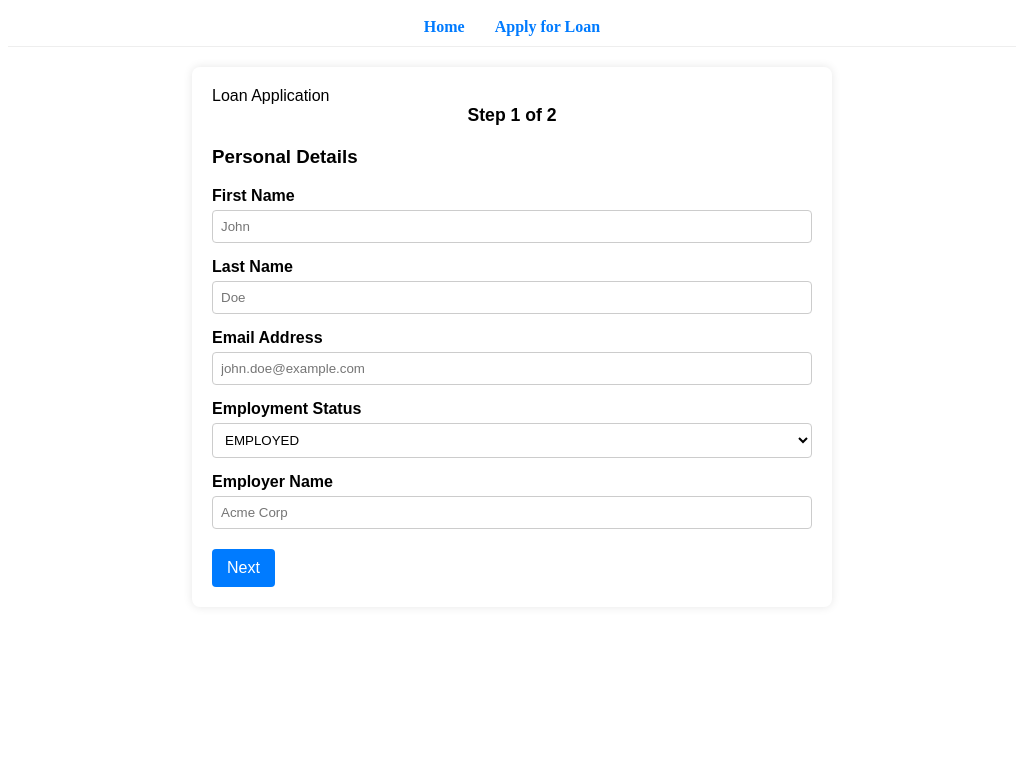
Scenario: Loan Application Form E2E Tests › Step 1: Personal Details › should show required field errors on empty submission of Step 1
Click the button with test id "next-button" at (244, 568), box [212,549,275,587]
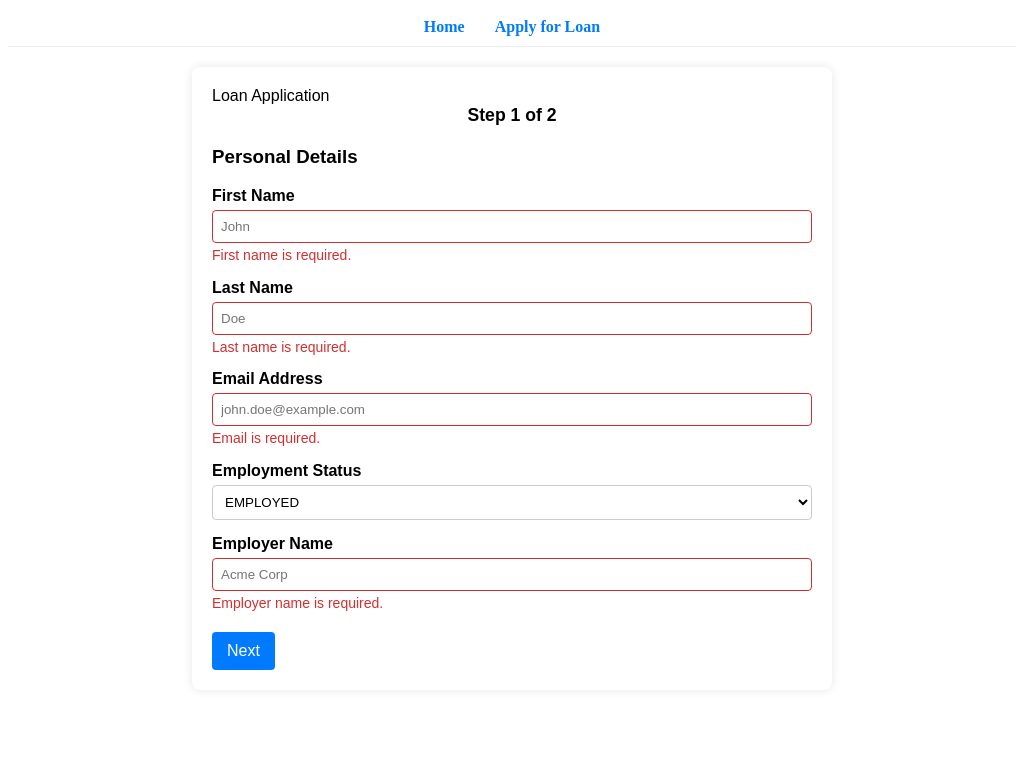
Check: the text "First name is required." is shown, box [212,247,351,263]
Check: the text "Last name is required." is shown, box [212,338,350,354]
Check: the text "Email is required." is shown, box [212,430,320,446]
